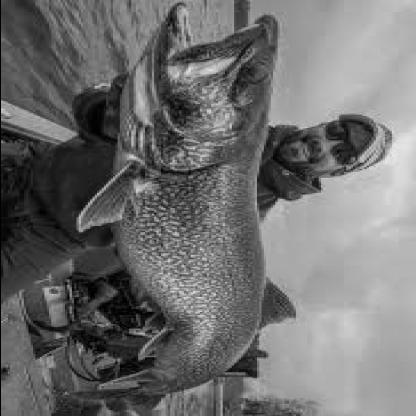fish: (68, 0, 300, 410)
